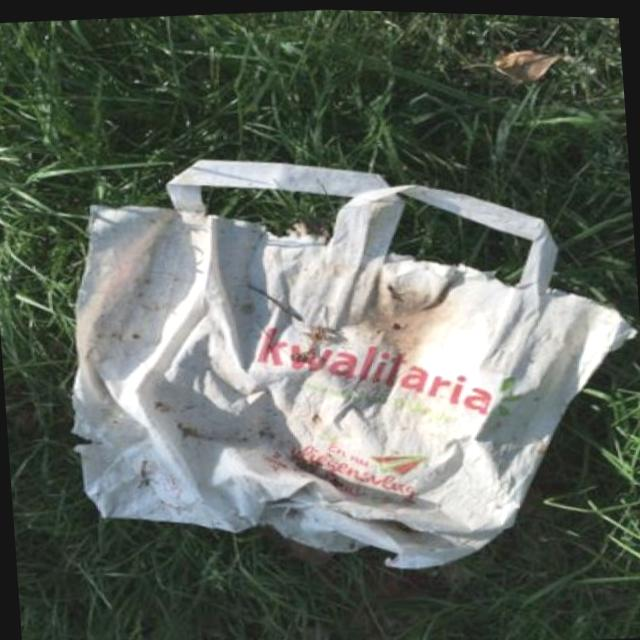Paper: (47, 123, 640, 597)
